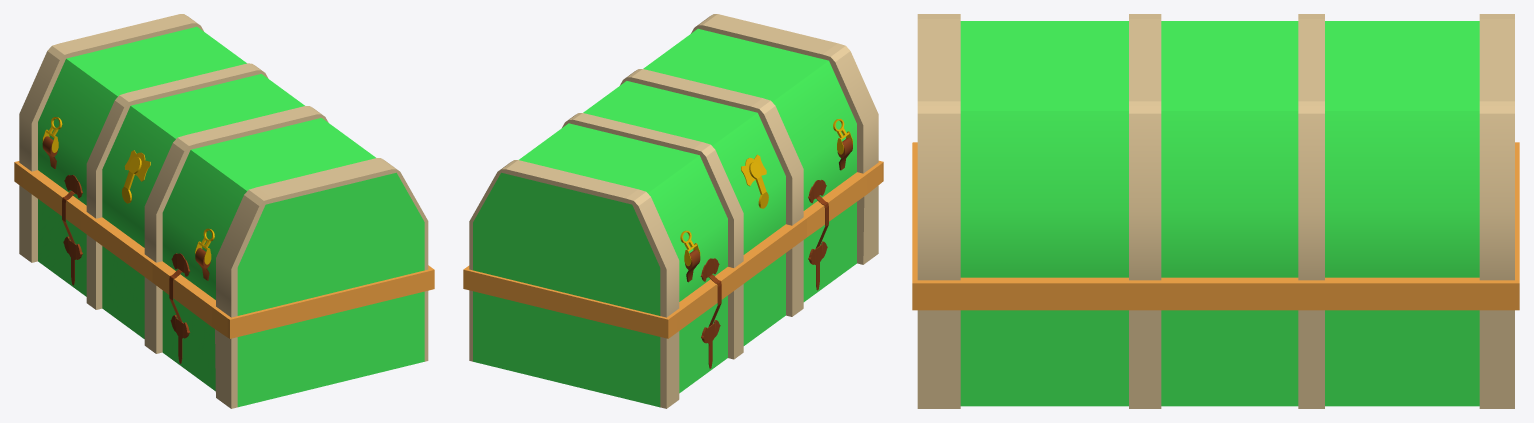
Rendered from TrunkTexed.fbx.
3 views of the same model, side by side, from view 1: azimuth 30°, elevation 25°; view 2: azimuth 150°, elevation 25°; view 3: azimuth 270°, elevation 25° (orthographic). The views are drawn at different scales.
Parts seen in each view (by area): view 1: Trunk; view 2: Trunk; view 3: Trunk.
Part boxes in pixels (x1=…): Trunk: x1=14, y1=14, x2=434, y2=408; Trunk: x1=463, y1=14, x2=883, y2=408; Trunk: x1=912, y1=14, x2=1519, y2=408.
Size of the model in its own units: 3355 by 3119 by 6077.
